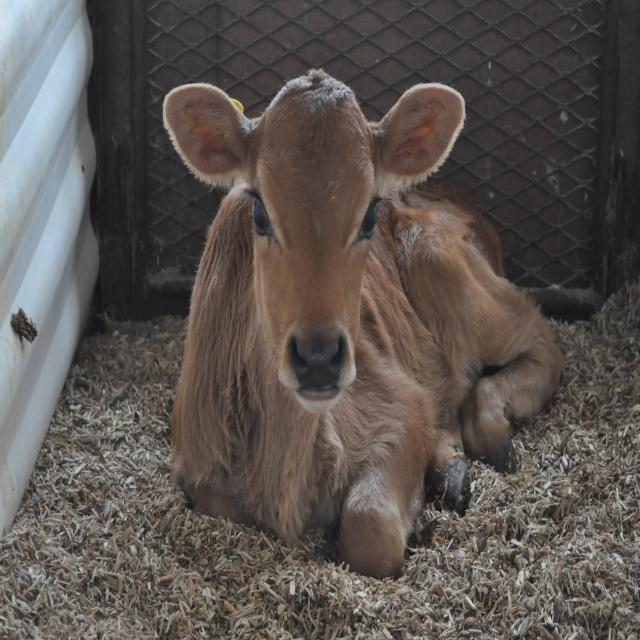cow: (164, 72, 562, 576)
